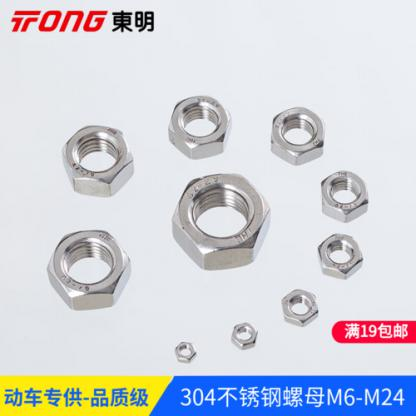FOD: (166, 172, 274, 269), (45, 227, 133, 315), (55, 121, 135, 196), (162, 93, 233, 162), (267, 104, 328, 166), (315, 168, 371, 225), (314, 232, 365, 281), (278, 288, 322, 328), (228, 320, 260, 350), (172, 337, 197, 365)
